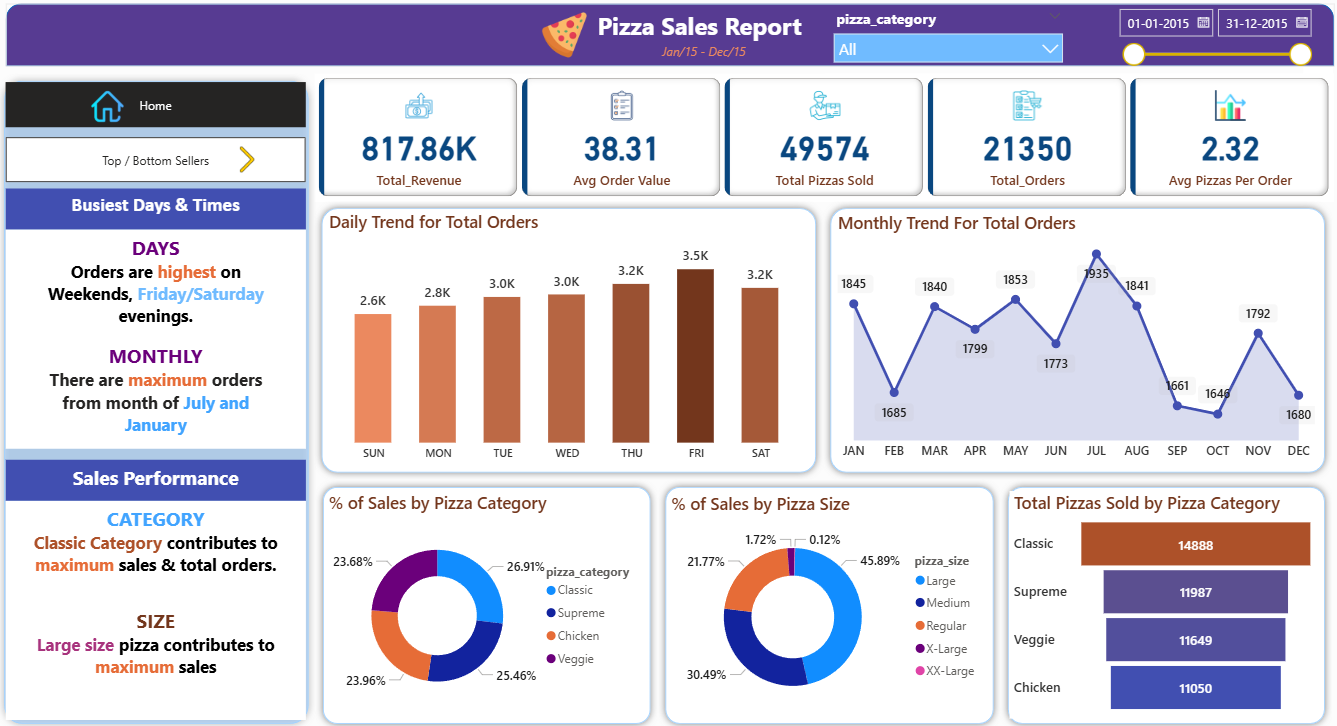

What the dashboard file says about the page in this screenshot:
{"tool":"powerbi","page":{"name":"Home","canvas":[1500,820],"ordinal":0},"visuals":[{"type":"shape","box":[10,8.6,1480,70],"z":0},{"type":"textbox","box":[620,10,325.7,65.7],"z":1000},{"type":"cardVisual","fields":{"Data":["pizza_sales.Total_Revenue","pizza_sales.Avg Order Value","pizza_sales.Total Pizzas Sold","pizza_sales.Total_Orders","pizza_sales.Avg Pizzas Per Order"]},"box":[354.3,85.7,1135.7,142.9],"z":2000},{"type":"textbox","box":[725.7,47.1,124.3,28.6],"z":3000},{"type":"image","box":[577.1,12.9,111.4,61.4],"z":4000},{"type":"shape","box":[353.7,228.4,566.8,310.6],"z":5000},{"type":"columnChart","title":"Daily Trend for Total Orders","fields":{"Category":["pizza_sales.Order Day"],"Y":["pizza_sales.Total_Orders"]},"box":[364.9,238.1,541.7,289.7],"z":6000},{"type":"shape","box":[920.6,228.4,566.8,310.6],"z":7000},{"type":"areaChart","title":"Monthly Trend For Total Orders","fields":{"Y":["pizza_sales.Total_Orders"],"Category":["pizza_sales.Order Month"]},"box":[931.7,239.5,541.7,286.9],"z":8000},{"type":"shape","box":[355.1,539,381,280],"z":9000},{"type":"shape","box":[736.7,539,381.6,279.9],"z":10000},{"type":"shape","box":[1118.3,539,369.1,279.9],"z":11000},{"type":"donutChart","title":"% of Sales  by Pizza Category","fields":{"Category":["pizza_sales.pizza_category"],"Y":["pizza_sales.Total_Revenue"]},"box":[364.9,551.5,360.7,253.5],"z":12000},{"type":"donutChart","title":"% of Sales  by Pizza Size","fields":{"Y":["pizza_sales.Total_Revenue"],"Category":["pizza_sales.pizza_size"]},"box":[746.5,552.9,360.7,253.5],"z":13000},{"type":"funnel","title":"Total Pizzas Sold by Pizza Category","fields":{"Category":["pizza_sales.pizza_category"],"Y":["pizza_sales.Total Pizzas Sold"]},"box":[1128.1,551.5,345.4,253.5],"z":14000},{"type":"shape","box":[0,86.3,355.1,732.5],"z":15000},{"type":"textbox","box":[9.7,214.5,334.2,46],"z":16000},{"type":"textbox","box":[9.7,260.4,334.2,243.7],"z":17000},{"type":"textbox","box":[9.7,562.6,334.2,243.7],"z":18000},{"type":"textbox","box":[9.7,516.7,334.2,46],"z":19000},{"type":"slicer","fields":{"Values":["pizza_sales.pizza_category"]},"box":[921.9,8.4,275.7,69.6],"z":20000},{"type":"slicer","fields":{"Values":["pizza_sales.order_date"]},"box":[1238.1,4.2,235.4,76.6],"z":21000},{"type":"pageNavigator","box":[9.7,157.4,334.2,50.1],"z":21001},{"type":"pageNavigator","box":[9.7,96.1,334.2,50.1],"z":21002},{"type":"image","box":[224.2,162.9,108.6,39],"z":21003},{"type":"image","box":[100.3,100.3,46,46],"z":21004}]}

Visuals, with their boxes in screenshot pixels (x1, y1, x2, y2), scaled from the page's 1500x820 canvas onto the 1337x726 screenshot:
shape: [x1=9, y1=8, x2=1328, y2=70]
textbox: [x1=553, y1=9, x2=843, y2=67]
cardVisual - pizza_sales.Total_Revenue x pizza_sales.Avg Order Value: [x1=316, y1=76, x2=1328, y2=202]
textbox: [x1=647, y1=42, x2=758, y2=67]
image: [x1=514, y1=11, x2=614, y2=66]
shape: [x1=315, y1=202, x2=820, y2=477]
"Daily Trend for Total Orders" columnChart: [x1=325, y1=211, x2=808, y2=467]
shape: [x1=821, y1=202, x2=1326, y2=477]
"Monthly Trend For Total Orders" areaChart: [x1=830, y1=212, x2=1313, y2=466]
shape: [x1=317, y1=477, x2=656, y2=725]
shape: [x1=657, y1=477, x2=997, y2=725]
shape: [x1=997, y1=477, x2=1326, y2=725]
"% of Sales  by Pizza Category" donutChart: [x1=325, y1=488, x2=647, y2=713]
"% of Sales  by Pizza Size" donutChart: [x1=665, y1=490, x2=987, y2=714]
"Total Pizzas Sold by Pizza Category" funnel: [x1=1006, y1=488, x2=1313, y2=713]
shape: [x1=0, y1=76, x2=317, y2=725]
textbox: [x1=9, y1=190, x2=307, y2=231]
textbox: [x1=9, y1=231, x2=307, y2=446]
textbox: [x1=9, y1=498, x2=307, y2=714]
textbox: [x1=9, y1=457, x2=307, y2=498]
slicer - pizza_sales.pizza_category: [x1=822, y1=7, x2=1067, y2=69]
slicer - pizza_sales.order_date: [x1=1104, y1=4, x2=1313, y2=72]
pageNavigator: [x1=9, y1=139, x2=307, y2=184]
pageNavigator: [x1=9, y1=85, x2=307, y2=129]
image: [x1=200, y1=144, x2=297, y2=179]
image: [x1=89, y1=89, x2=130, y2=130]
